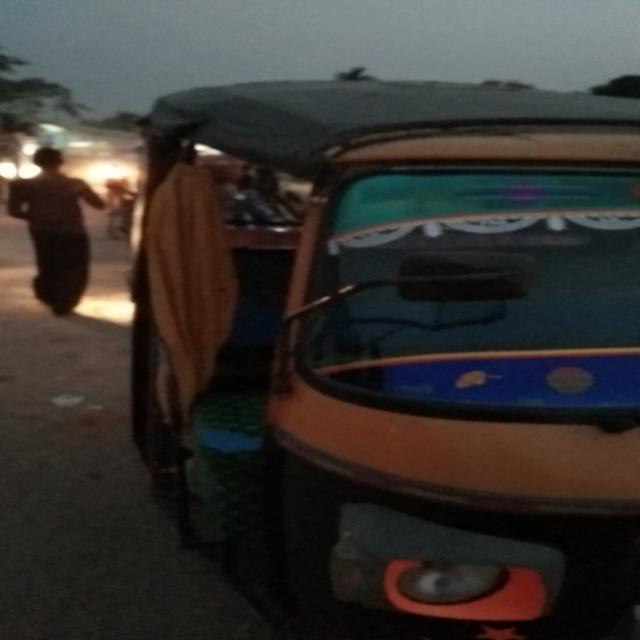tempo: (118, 63, 640, 640)
